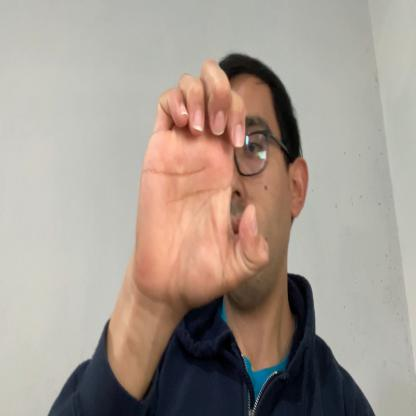E: (137, 59, 270, 315)
